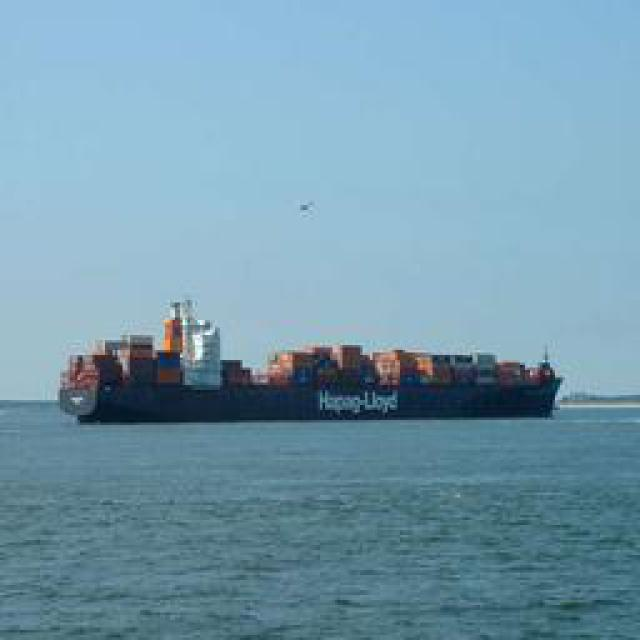Ship: (62, 300, 560, 430)
